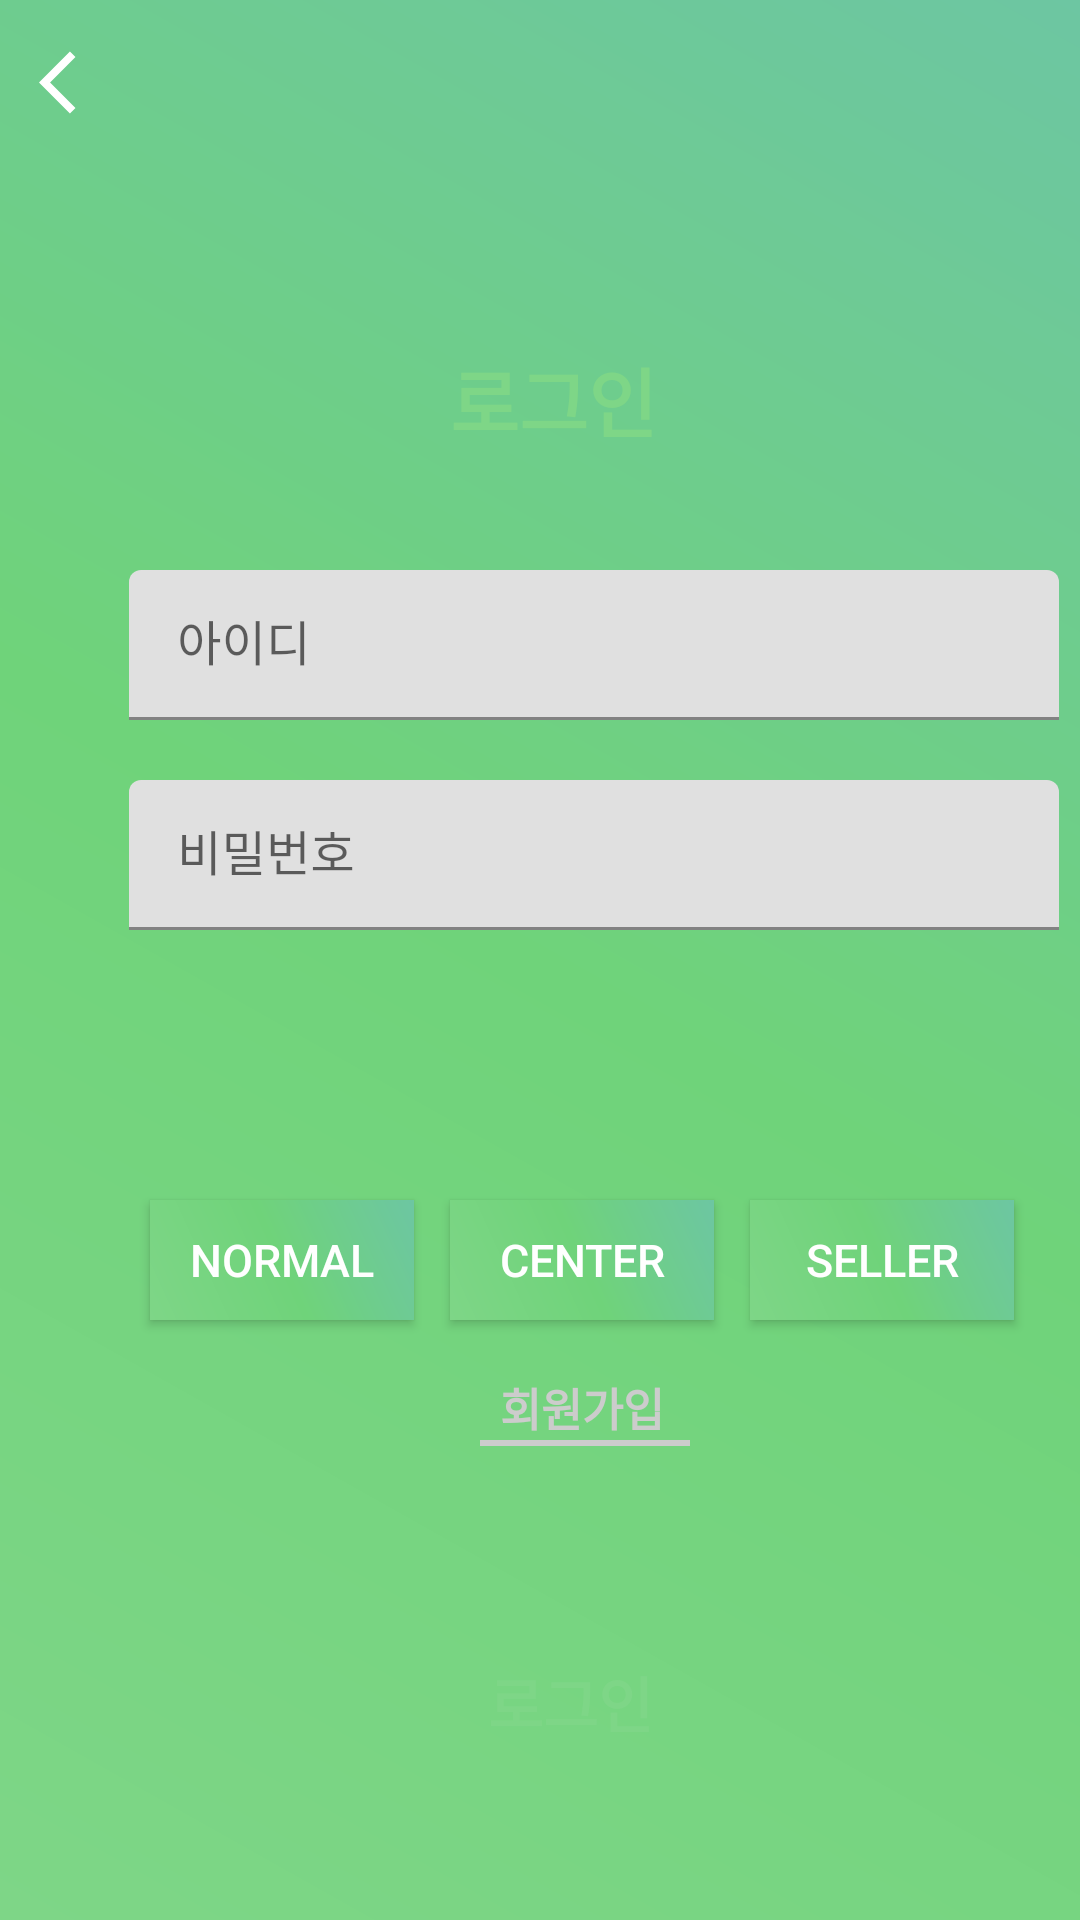

Where to tap for icons on this 1080 × 1920 app screen, as [x,y]:
arrow back: [57,82]
